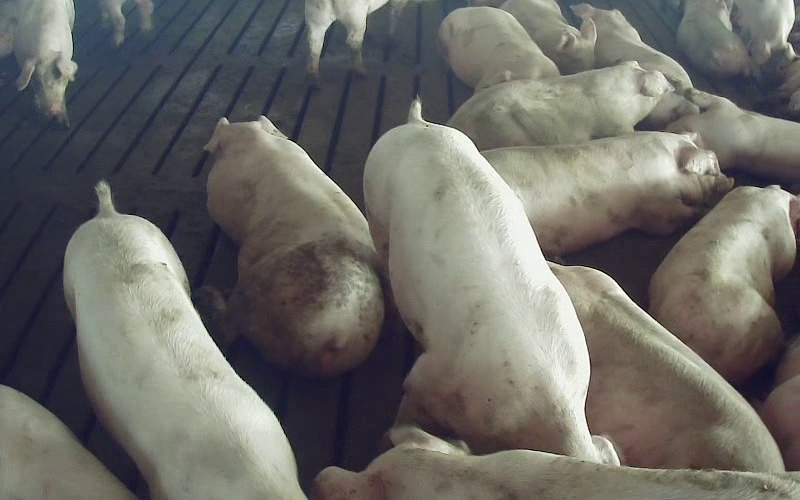pig: (364, 102, 616, 463), (64, 182, 304, 499), (549, 263, 783, 470), (205, 117, 383, 375), (314, 426, 799, 499), (483, 132, 732, 255), (650, 186, 799, 381), (447, 62, 672, 149), (665, 89, 799, 181), (572, 4, 692, 90), (438, 7, 559, 91), (14, 0, 77, 125), (500, 0, 596, 74)
